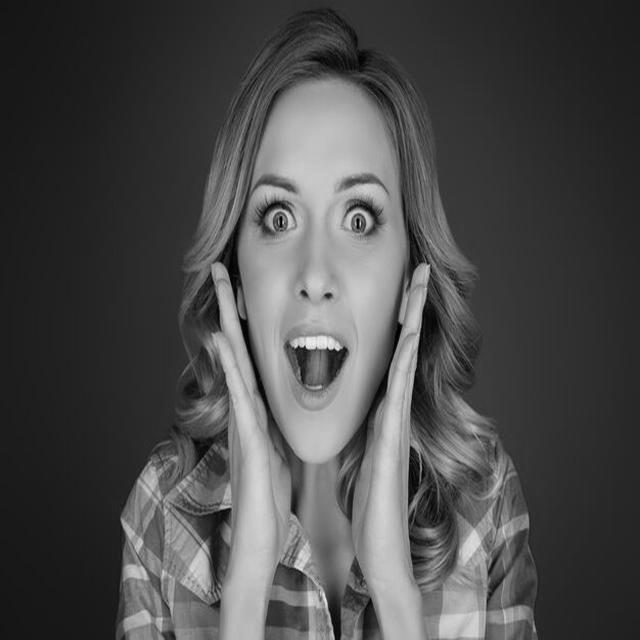Surprised: (238, 79, 409, 466)
